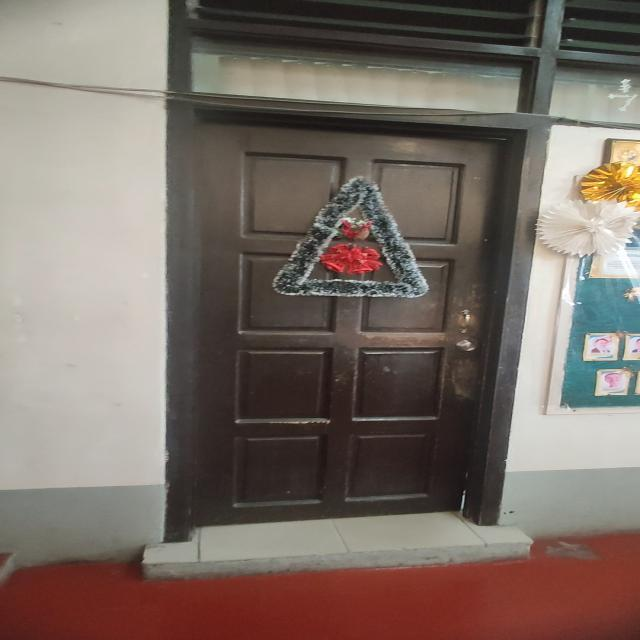door: (179, 119, 507, 544)
